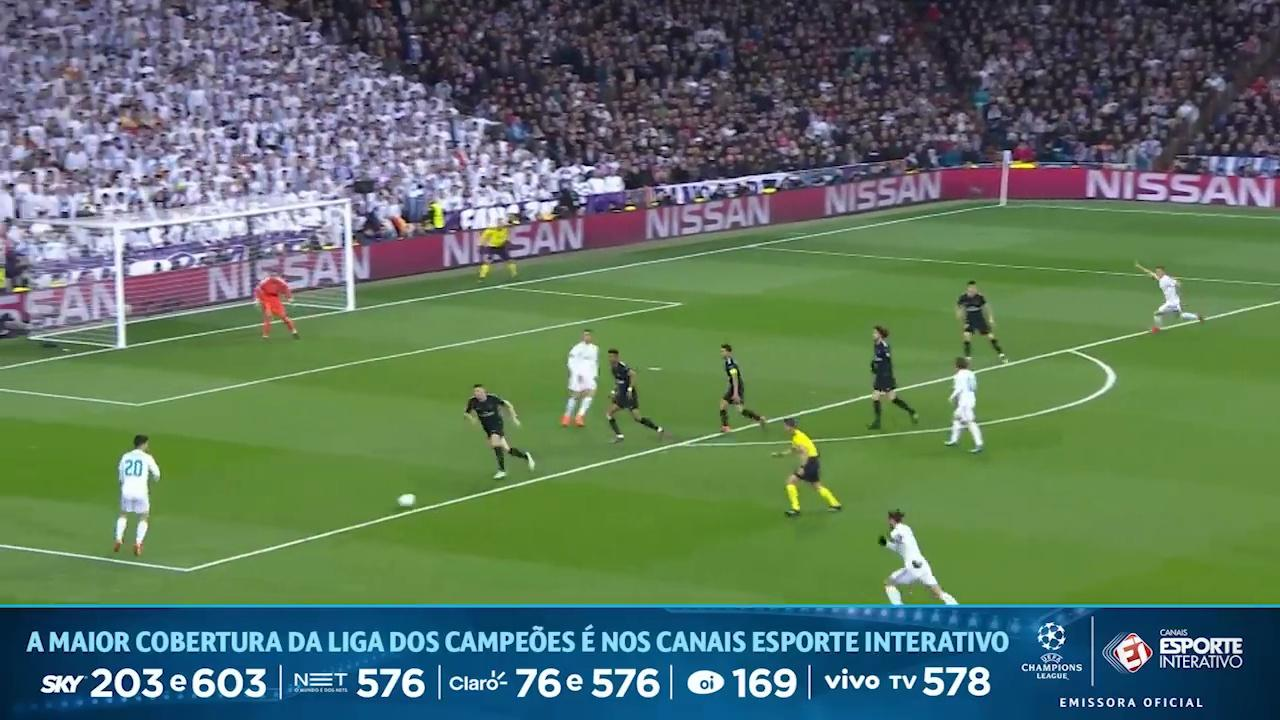football: (397, 494, 416, 508)
player: (878, 510, 956, 604), (464, 384, 535, 479), (113, 434, 160, 555), (606, 349, 664, 442), (868, 325, 918, 429), (1135, 263, 1203, 331), (956, 280, 1007, 362), (719, 343, 765, 431), (561, 330, 598, 426), (946, 358, 983, 453), (254, 272, 298, 338)
referee: (774, 418, 841, 516), (479, 216, 516, 279)
